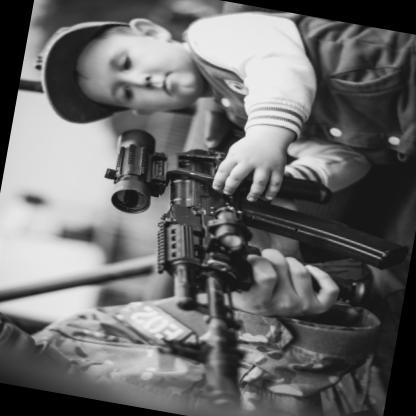rifle: (73, 103, 412, 416)
